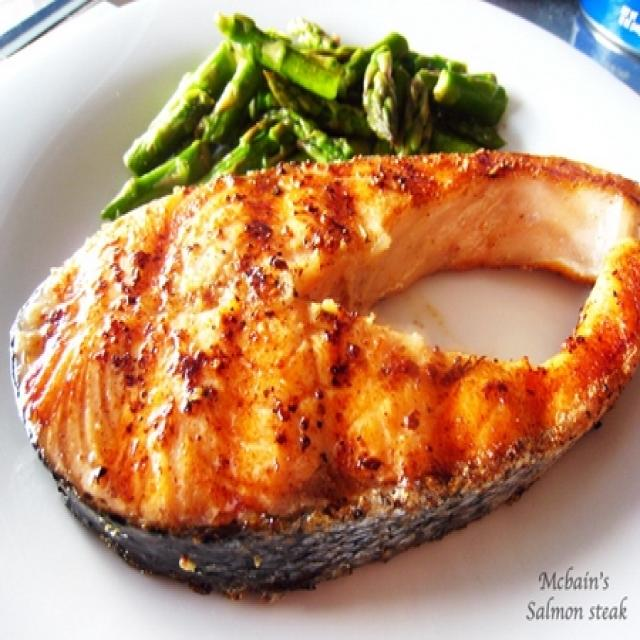熟制海鲜: (2, 22, 628, 610)
